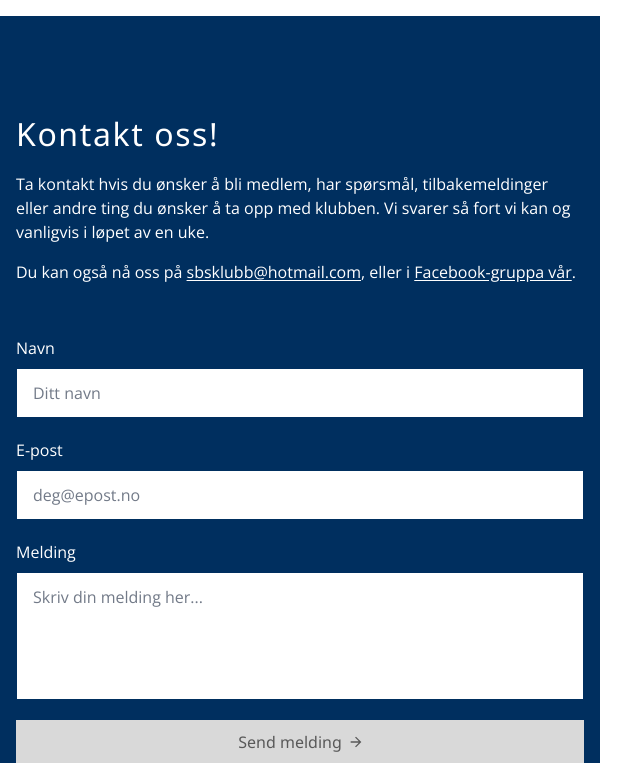
Test: ContactSection › clears a field error as soon as the user retypes it, without a second blur
The width and height of the screenshot is (617, 763).
Click the field with placeholder "Ditt navn" at (300, 393), box [16,368,584,418]
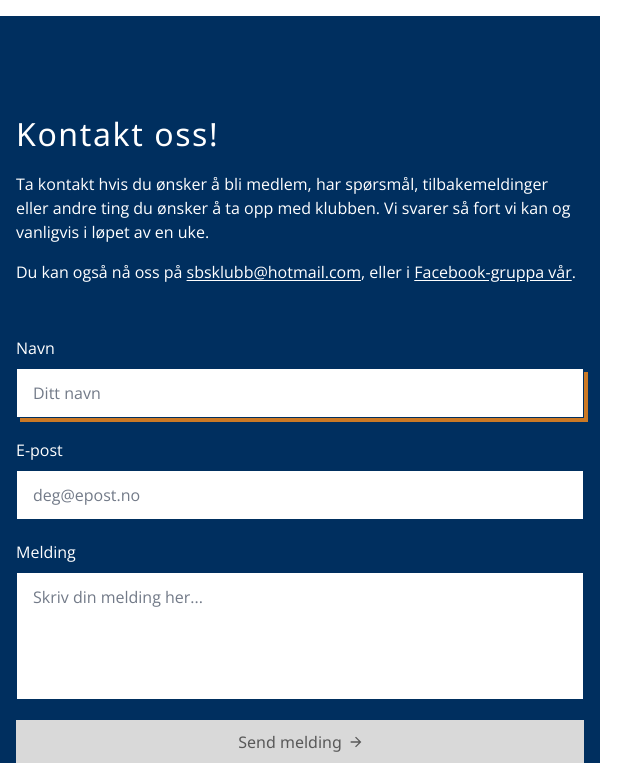
Press Tab
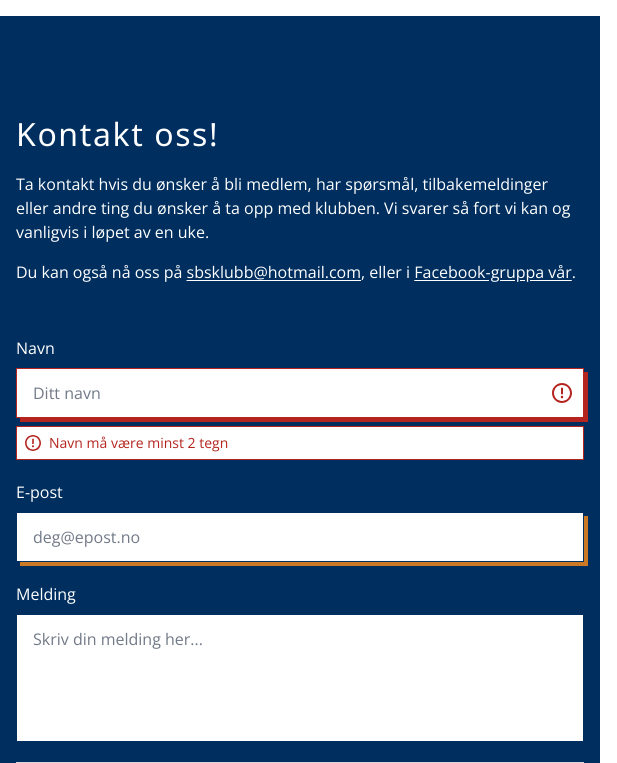
expect the text "Navn må være minst 2 tegn" is shown: met, box [49,433,228,453]
Type "Ola" into the field with placeholder "Ditt navn" at (300, 393), box [16,368,584,418]
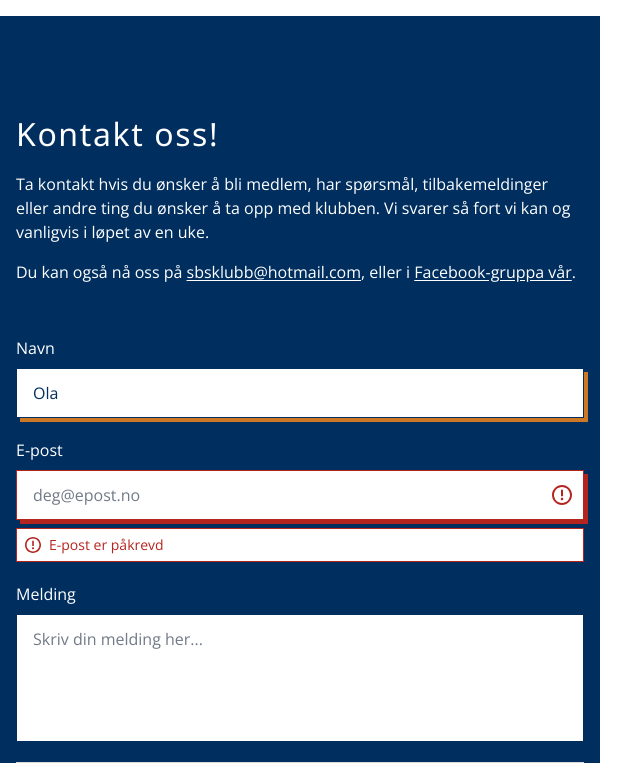
expect the text "Navn må være minst 2 tegn" is gone: met
